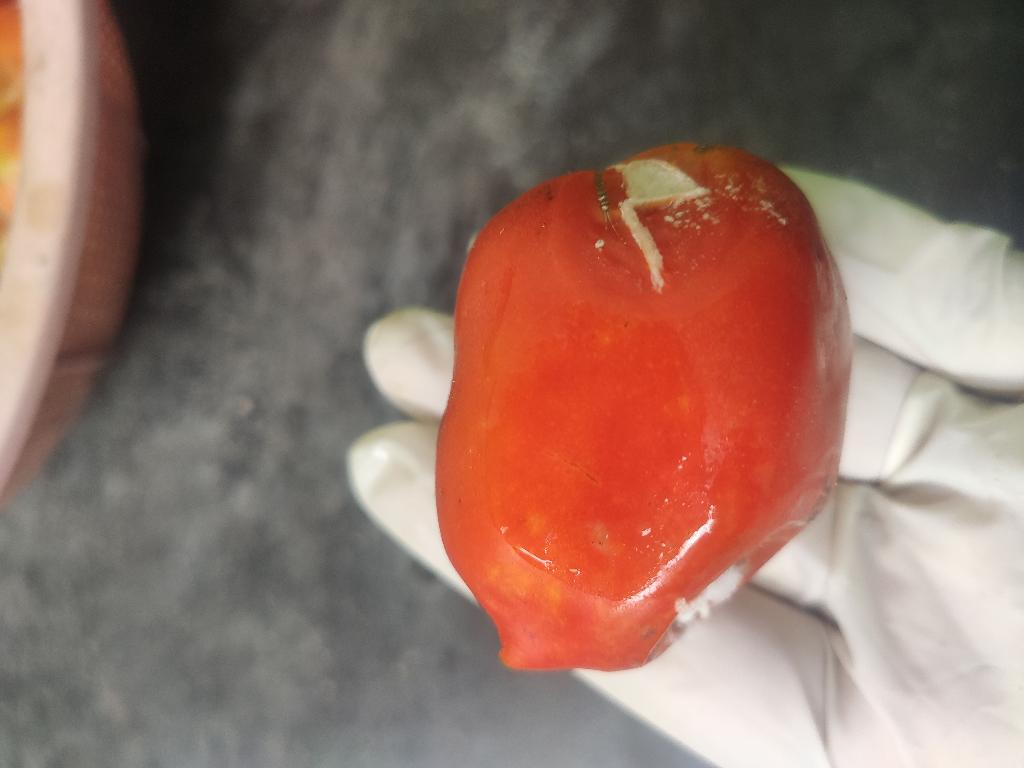rot_mold_decay: (614, 159, 708, 291), (647, 560, 746, 661)
surface_damage: (593, 172, 610, 213)
tomato: (436, 144, 851, 670)
